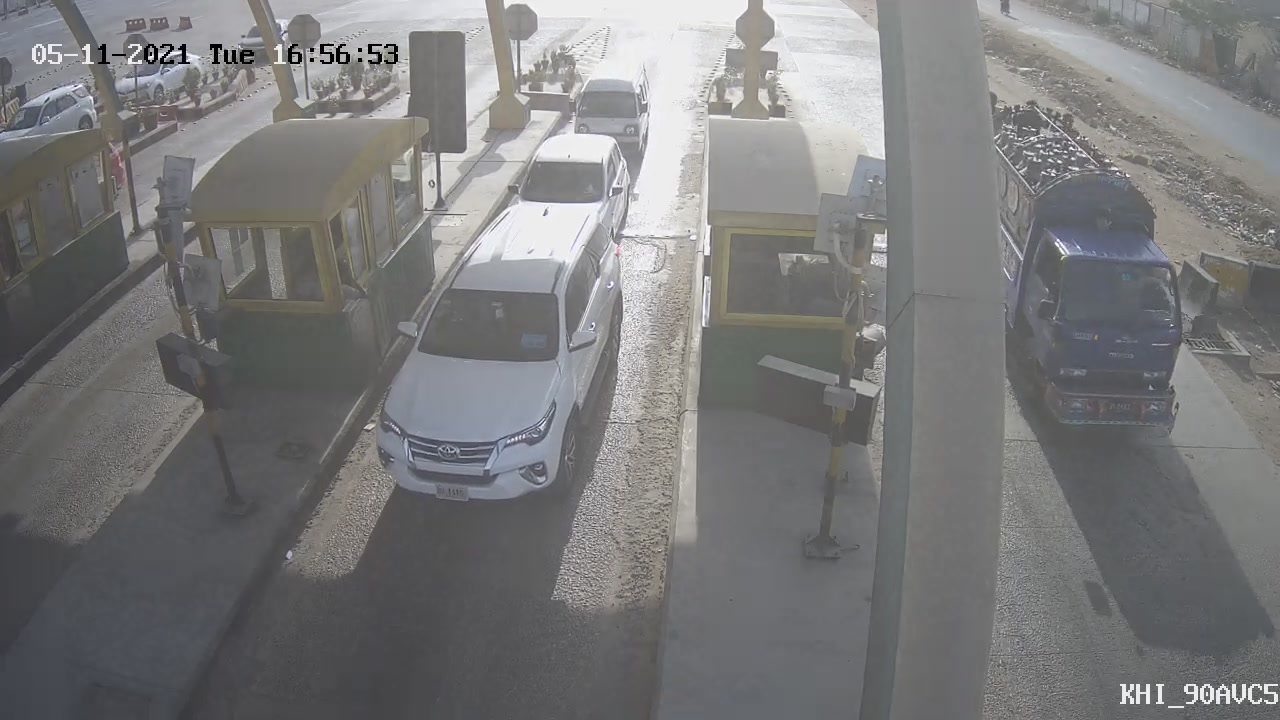F1: (351, 179, 648, 529), (552, 48, 669, 174)
